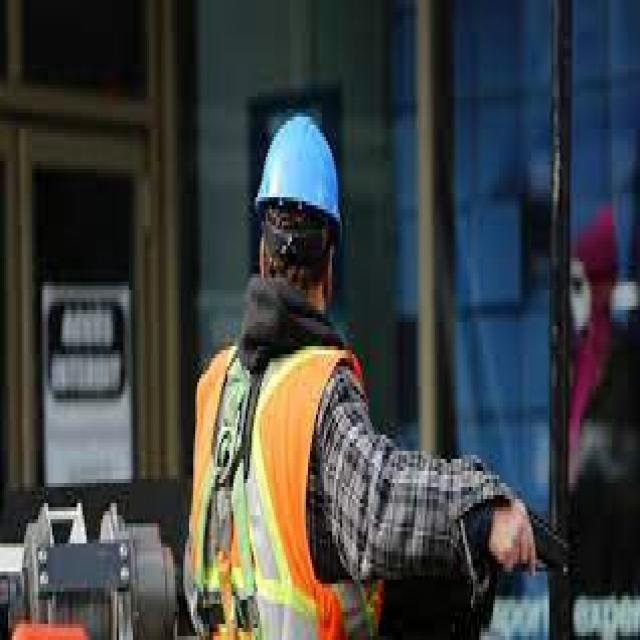Reflective-Jacket: (175, 326, 376, 640)
Safety-Helmet: (244, 96, 352, 254)
